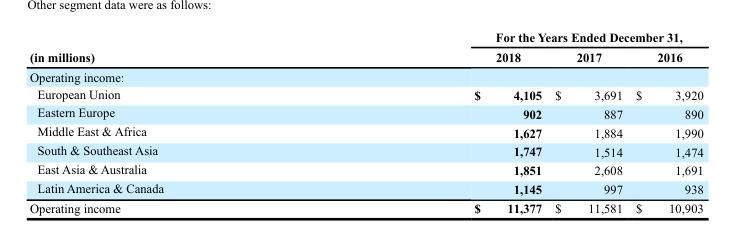table: (28, 29, 702, 215)
table column: (28, 29, 318, 215), (318, 29, 547, 215), (547, 29, 628, 215), (628, 29, 702, 215)
table column header: (28, 29, 702, 66)
table projected row header: (28, 66, 702, 85)
table row: (28, 46, 702, 66), (28, 66, 702, 85), (28, 103, 702, 122), (28, 122, 702, 141), (28, 141, 702, 160), (28, 160, 702, 179), (28, 179, 702, 198), (28, 85, 702, 103), (28, 29, 702, 46), (28, 198, 702, 215)
table spanning cell: (28, 29, 318, 66), (318, 29, 702, 46)
